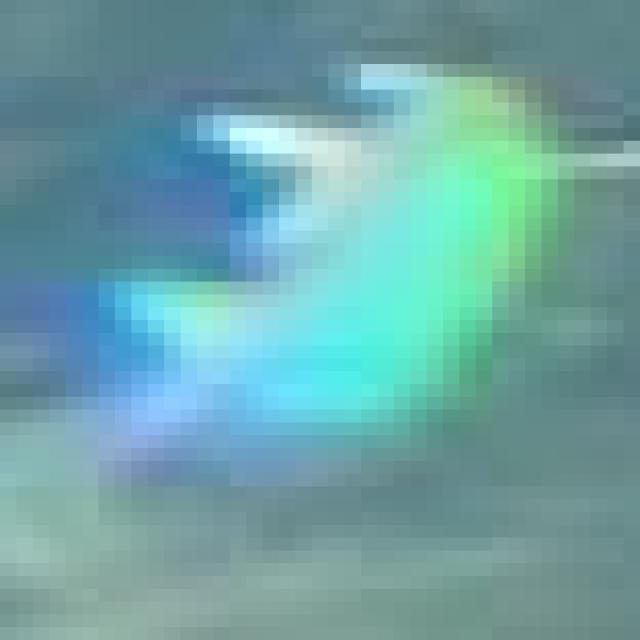fish: (16, 0, 640, 627)
